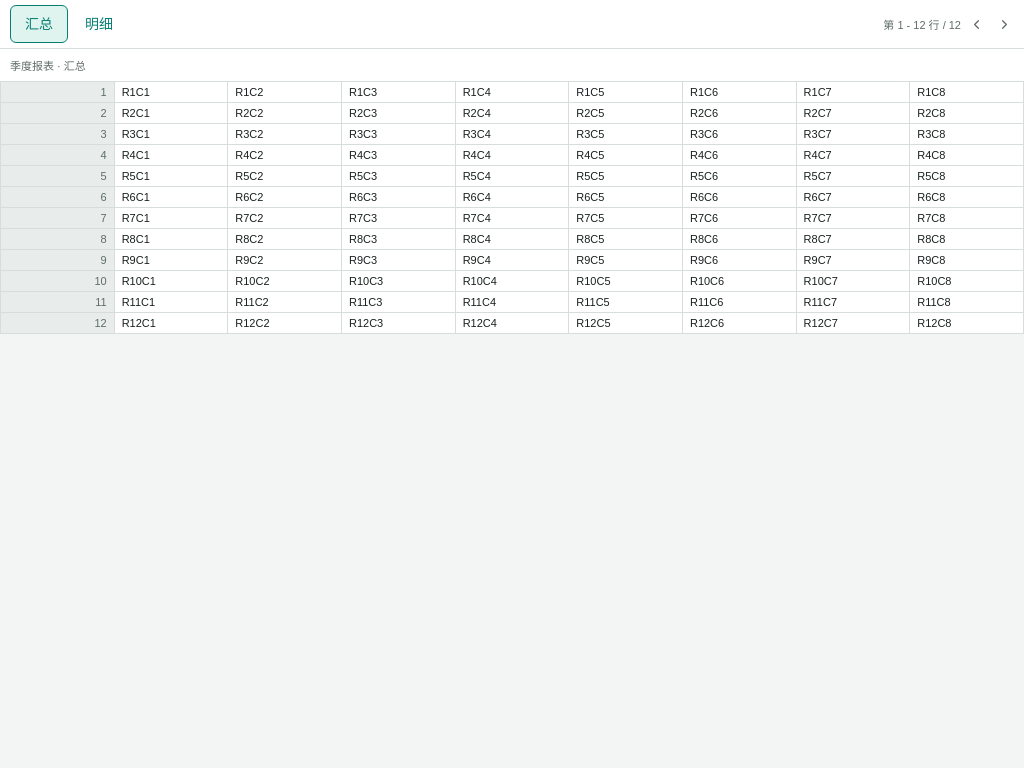
Test: CSV/XLSX 表格预览 › pages with TABLE_PAGE_ROWS and never requests a negative start row
Click the tab "明细" at (99, 24), box left=70, top=5, right=128, bottom=43
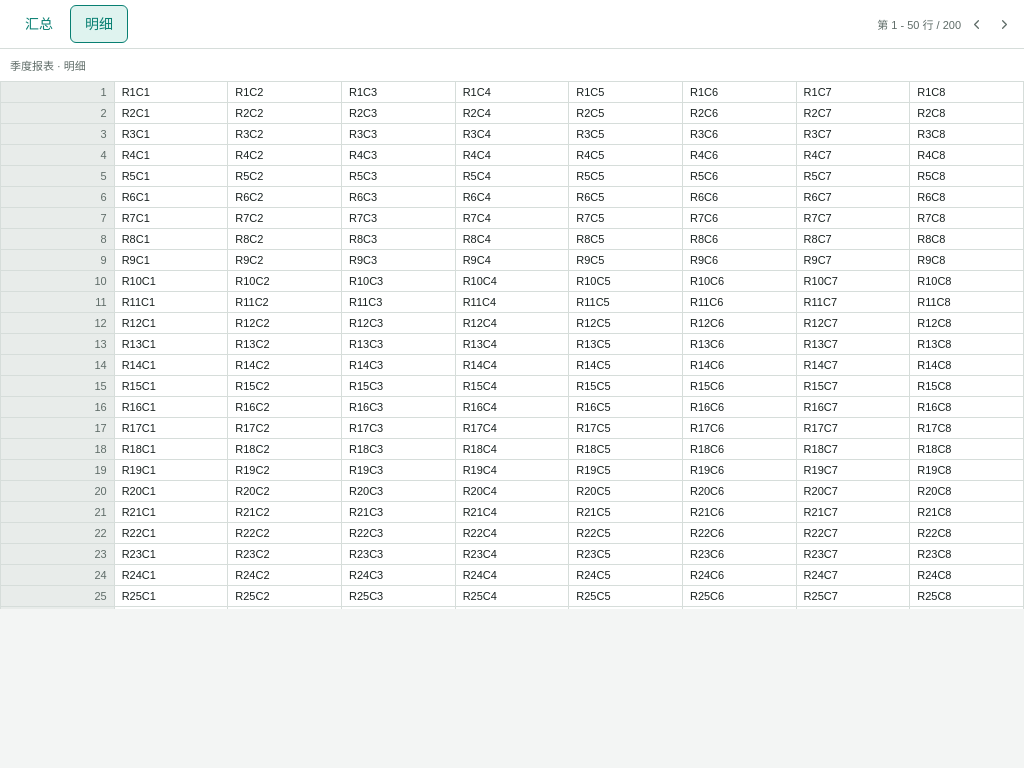
Check: the text "第 1 - 50 行 / 200" is shown, box left=877, top=16, right=961, bottom=32
Click the button named "表格下一页" at (1004, 24), box left=991, top=11, right=1017, bottom=37
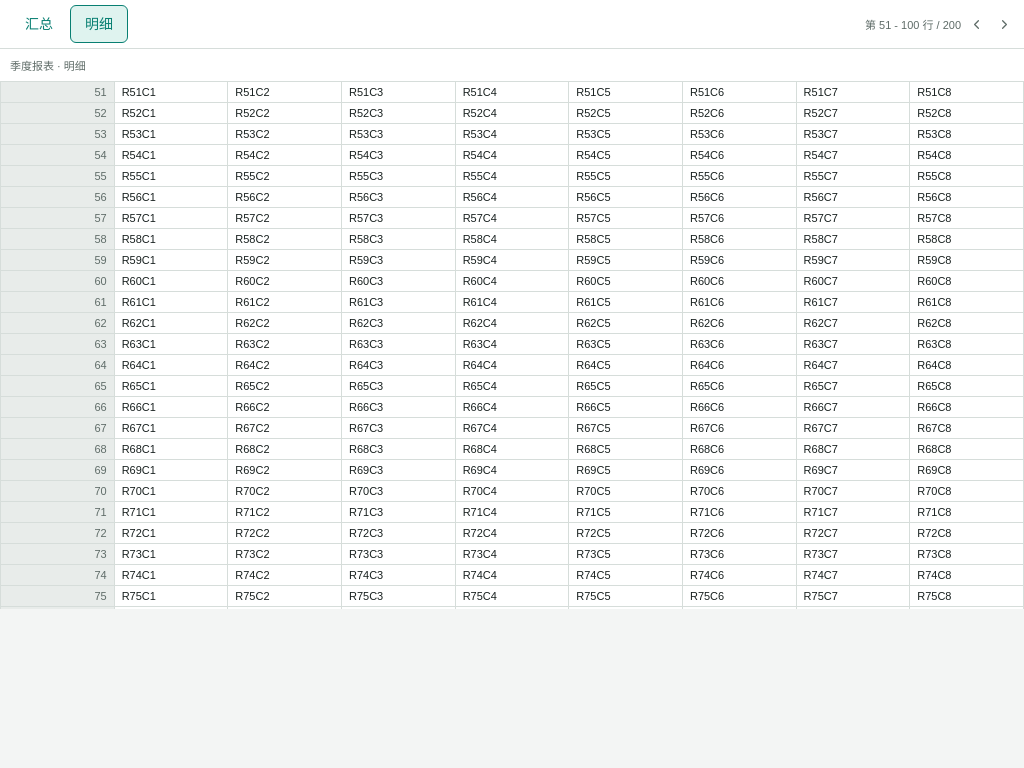
Check: the text "第 51 - 100 行 / 200" is shown, box left=865, top=16, right=961, bottom=32
Click the button named "表格上一页" at (976, 24), box left=963, top=11, right=989, bottom=37
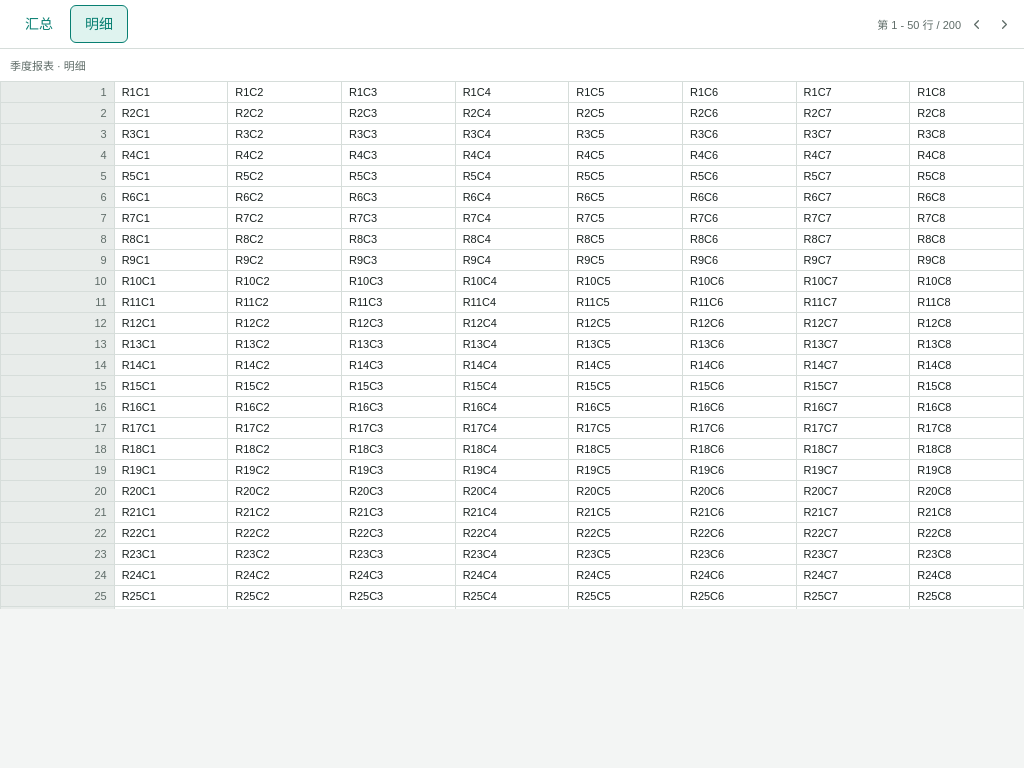
Check: the text "第 1 - 50 行 / 200" is shown, box left=877, top=16, right=961, bottom=32
